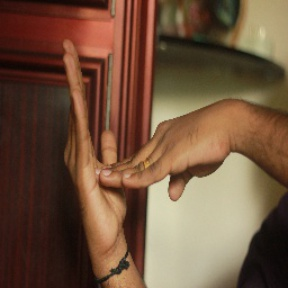Z: (50, 34, 232, 244)
